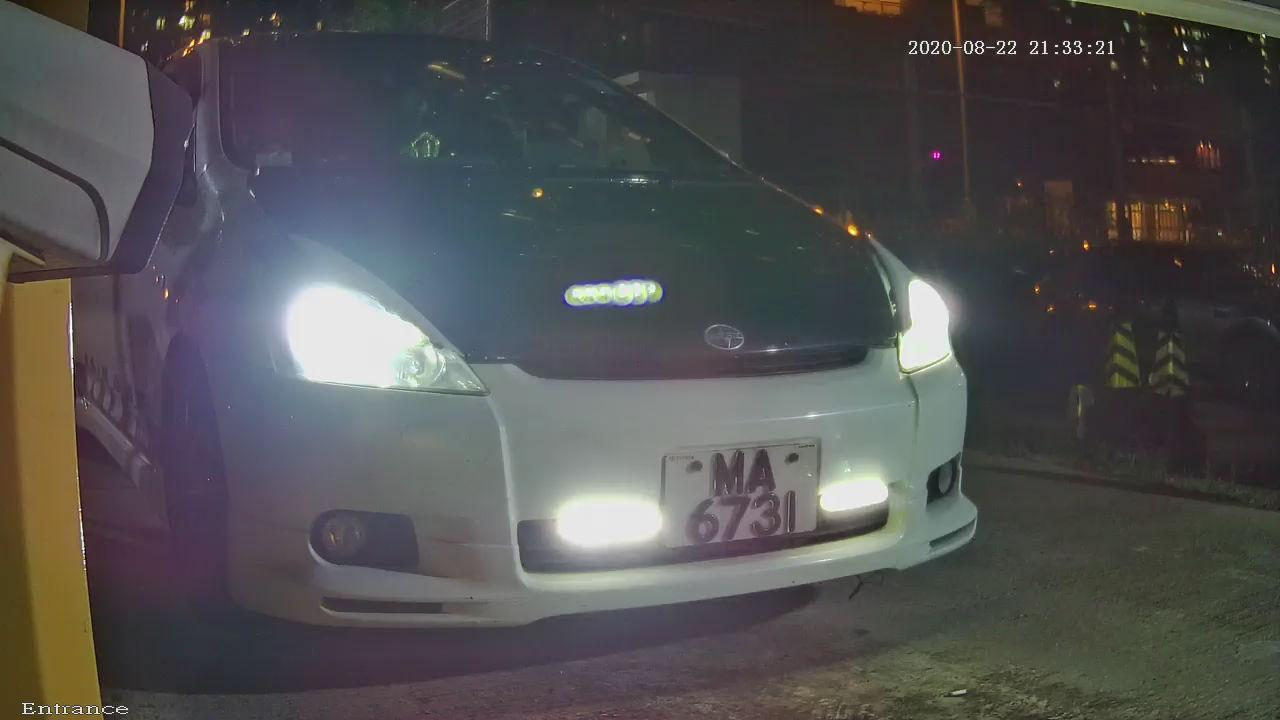Car: (52, 7, 1092, 698)
License Plate: (623, 401, 873, 592)
